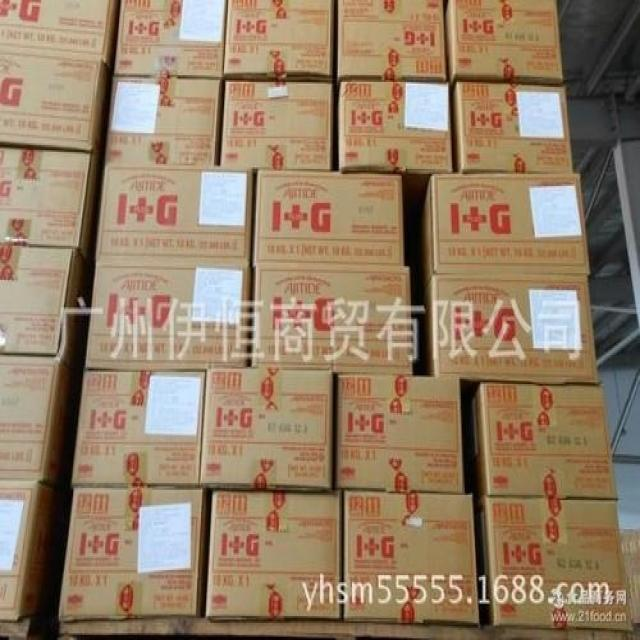box: (480, 497, 632, 630), (58, 486, 204, 620), (421, 174, 590, 287), (427, 274, 598, 381), (85, 262, 251, 370), (343, 491, 478, 623), (251, 265, 412, 374), (206, 489, 341, 617), (473, 382, 617, 500), (199, 367, 333, 490), (95, 165, 253, 265), (71, 370, 205, 486), (336, 375, 463, 493), (253, 168, 404, 267), (0, 49, 110, 156), (0, 147, 100, 260), (450, 83, 573, 173), (0, 244, 87, 368), (337, 82, 453, 173), (105, 76, 222, 165), (220, 80, 333, 170), (445, 0, 564, 85), (0, 354, 70, 486), (222, 0, 334, 82), (113, 0, 226, 79), (337, 1, 447, 82), (0, 0, 118, 68), (0, 480, 54, 621)
